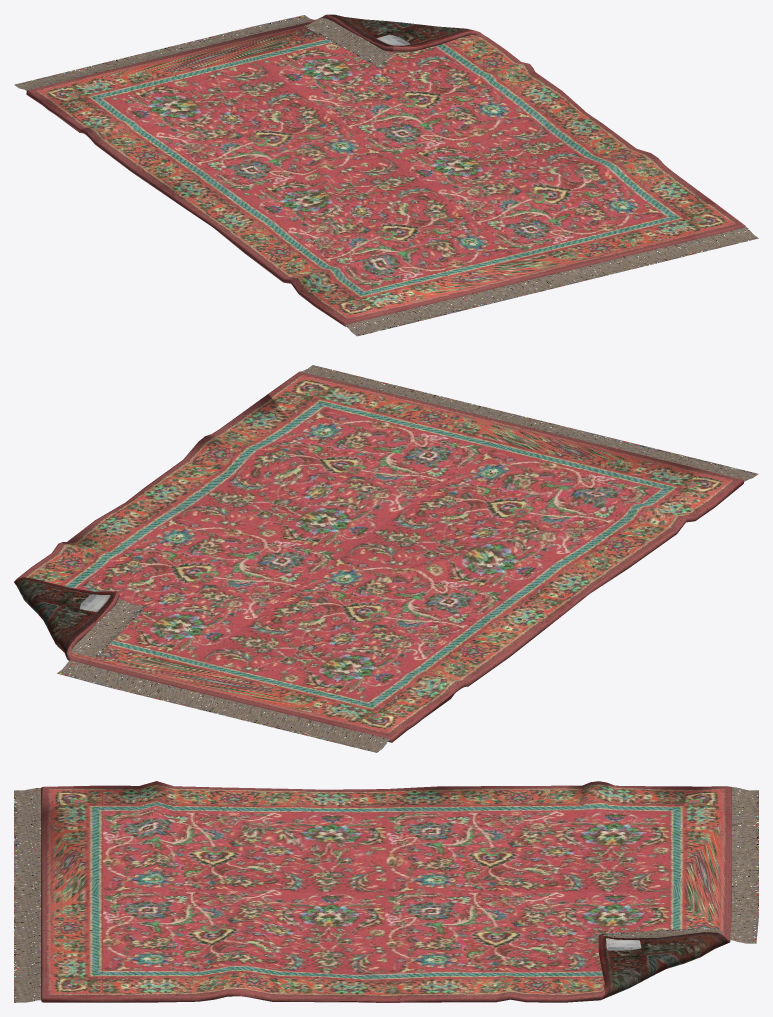
File: rug_bent_corner_a.glb
3 renders of one model, top to bottom at view 1: azimuth 30°, elevation 25°; view 2: azimuth 150°, elevation 25°; view 3: azimuth 270°, elevation 25°, orthographic. The views are drawn at different scales.
Parts seen in each view (by area): view 1: rug_bent_corner_a; view 2: rug_bent_corner_a; view 3: rug_bent_corner_a.
Part boxes in pixels (left/top/right/bottom): rug_bent_corner_a: left=14, top=14, right=758, bottom=336; rug_bent_corner_a: left=14, top=365, right=758, bottom=752; rug_bent_corner_a: left=14, top=781, right=758, bottom=1002.
Bounding box in the file's own units: 2.01 × 0.0879 × 2.96.
1 material, 1 textured.
